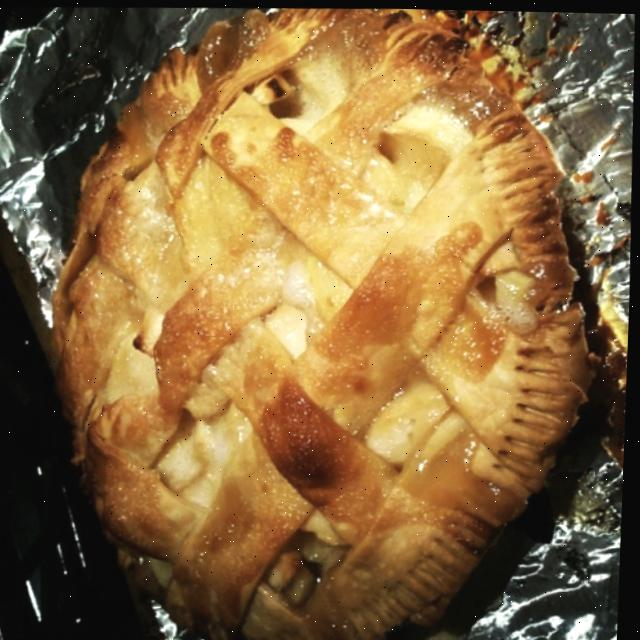炸货点心: (18, 1, 612, 640)
蛋糕甜品: (18, 1, 612, 640)
